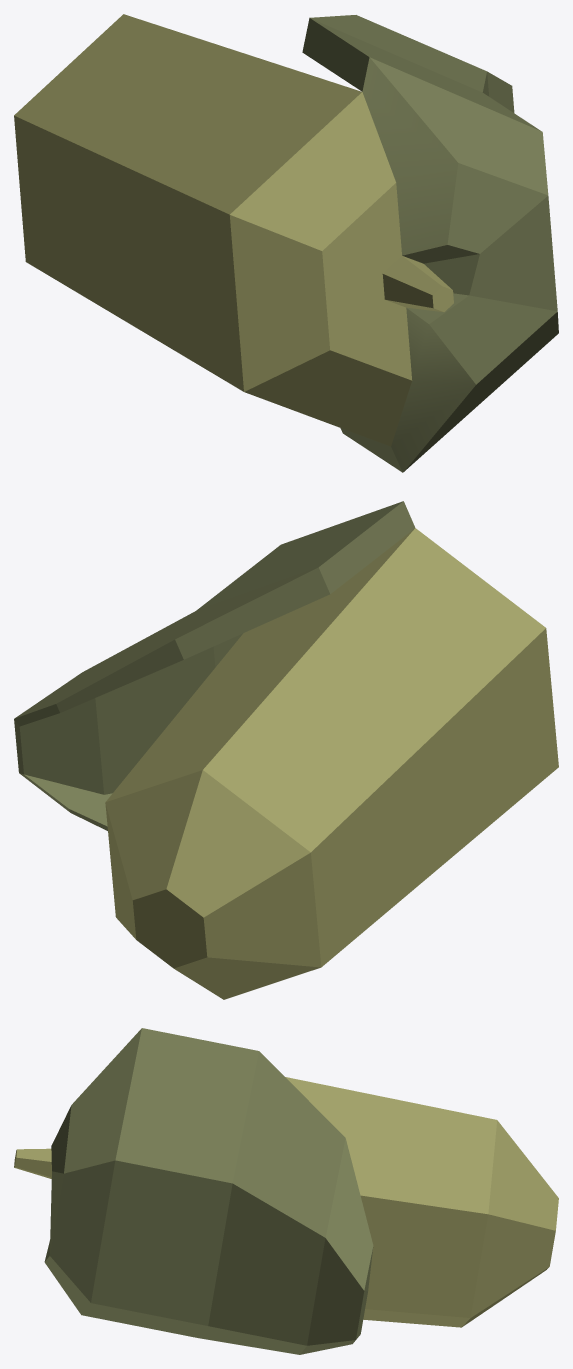
The picture shows the model from 3 angles, top to bottom: view 1: azimuth 30°, elevation 25°; view 2: azimuth 150°, elevation 25°; view 3: azimuth 270°, elevation 25°; orthographic projection. The views are drawn at different scales.
Visible parts, largest first — view 1: 玉米_pCylinder4; view 2: 玉米_pCylinder4; view 3: 玉米_pCylinder4.
Part boxes in pixels (bbox=[...]): 玉米_pCylinder4: bbox=[14, 14, 558, 472]; 玉米_pCylinder4: bbox=[14, 501, 558, 999]; 玉米_pCylinder4: bbox=[14, 1028, 558, 1354].
Bounding box in the file's own units: 17 × 15 × 24.19.
